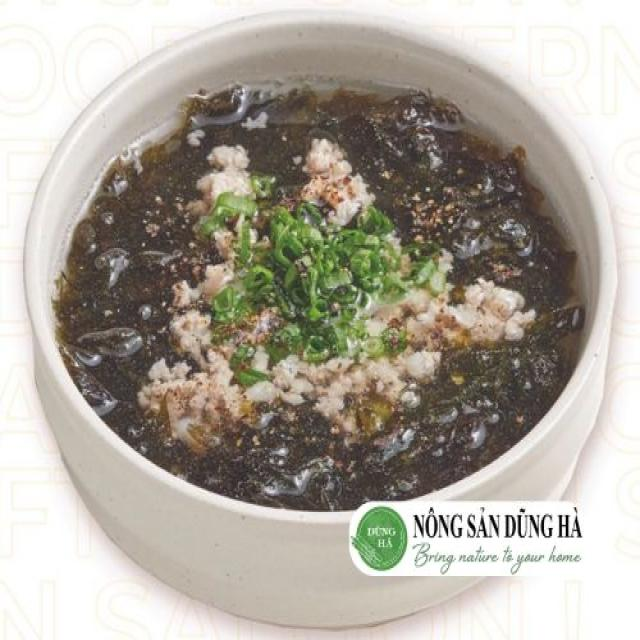canh rong bien: (65, 88, 584, 512)
